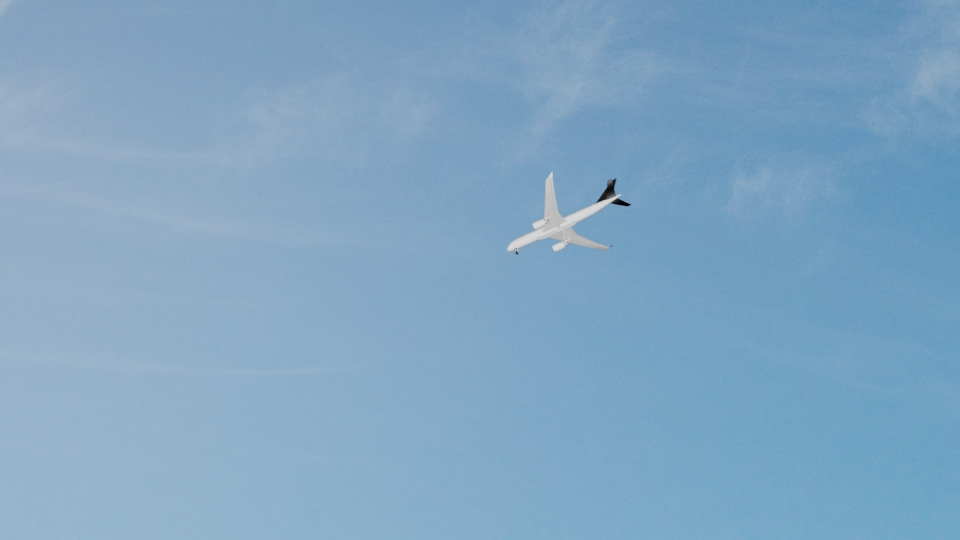plane: (503, 170, 632, 255)
